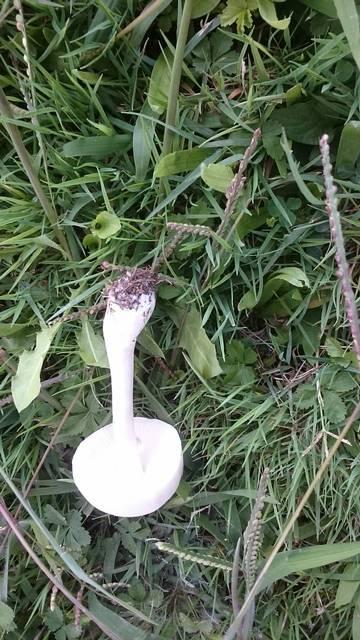poisonous_mushroom: (70, 263, 184, 518)
